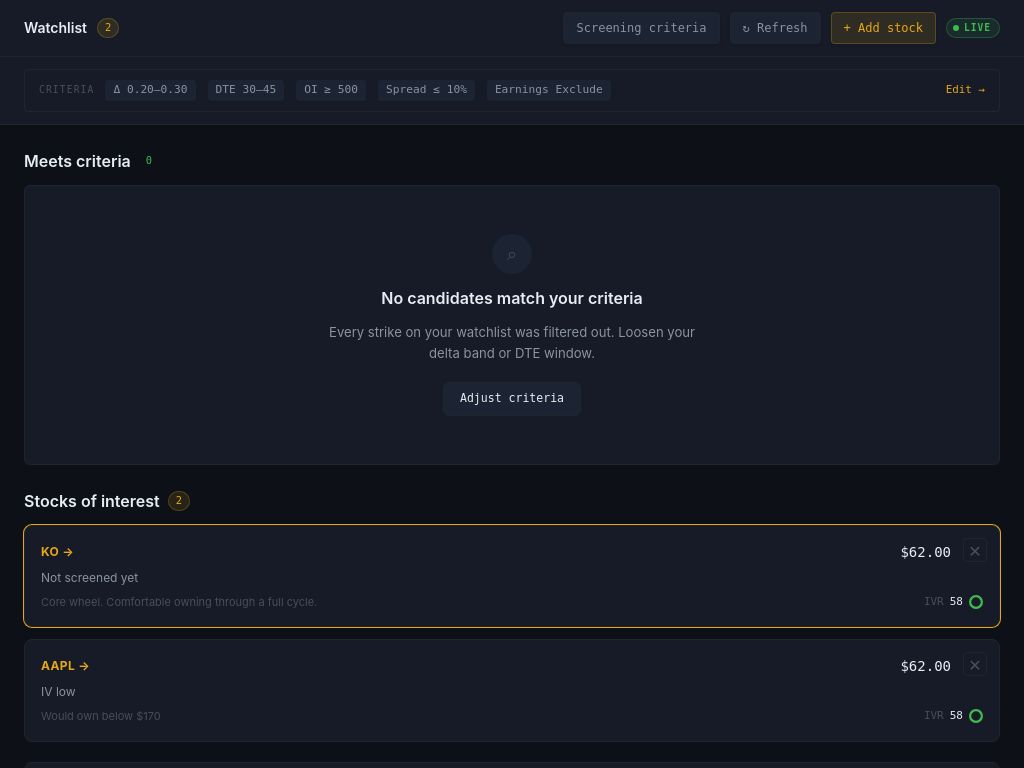
Test: WatchlistPage — bench sections › opens the criteria sheet from the empty card
The width and height of the screenshot is (1024, 768).
Click the button "Adjust criteria" at (512, 399), box x1=443 y1=382 x2=581 y2=416
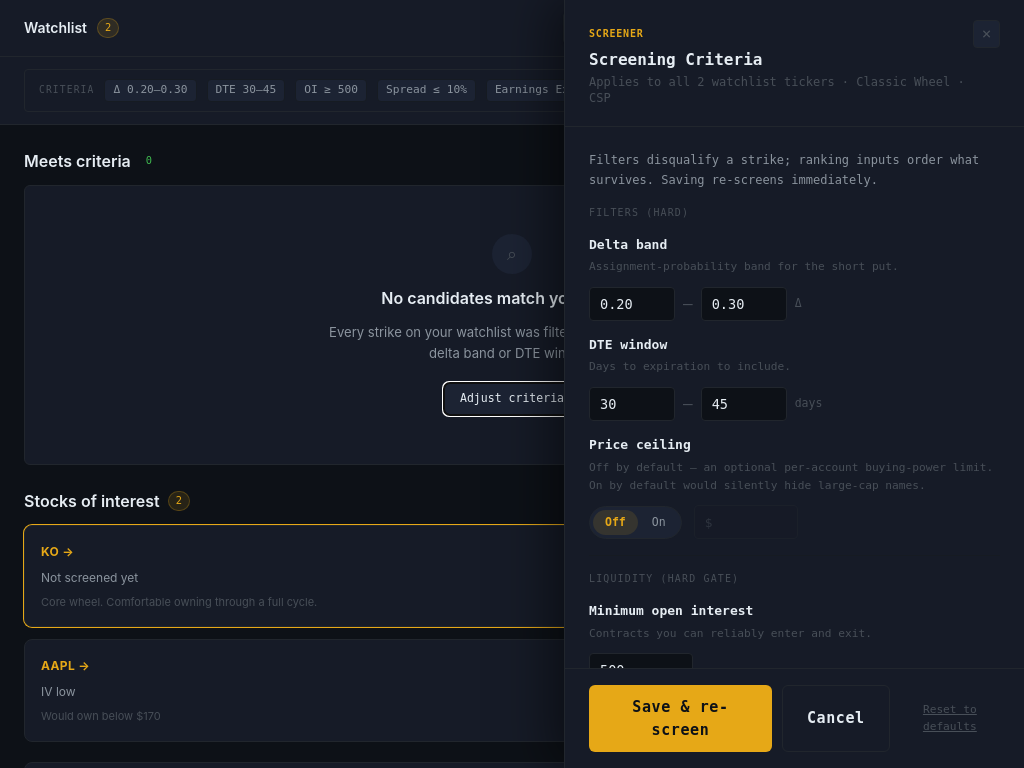
expect the text "Screening Criteria" is shown: met, box x1=589 y1=50 x2=762 y2=69
